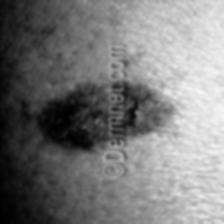Unclassified: (36, 78, 105, 150), (125, 82, 178, 144)
